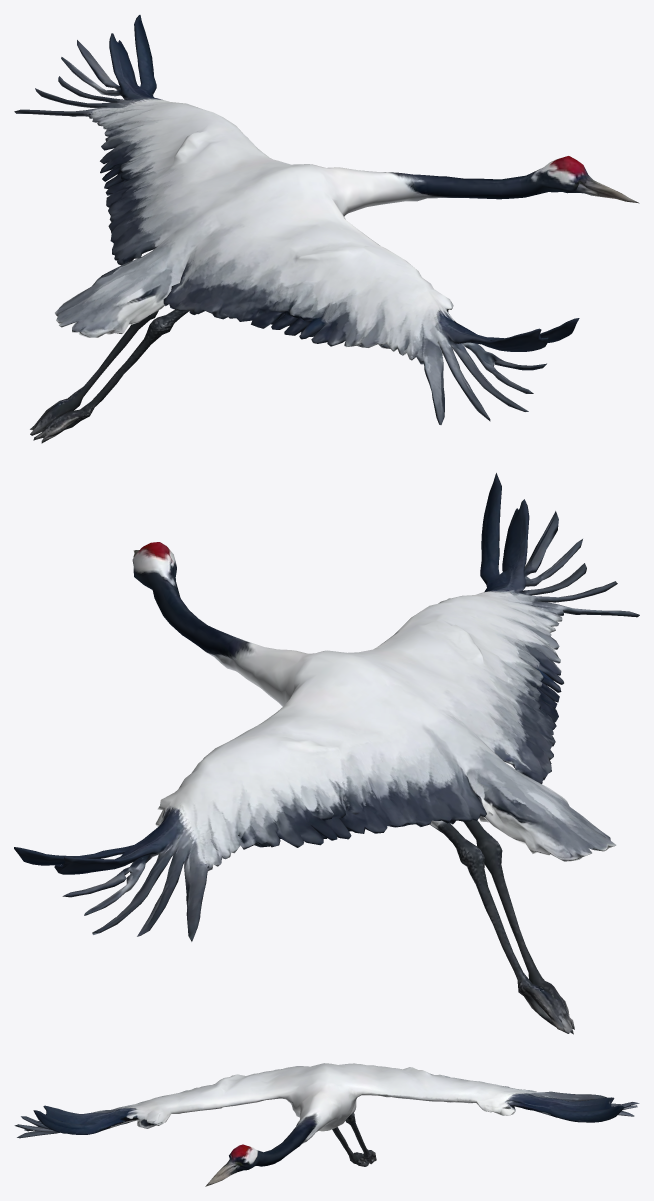
The model's file is crane.glb.
3 renders of one model, top to bottom at view 1: azimuth 30°, elevation 25°; view 2: azimuth 150°, elevation 25°; view 3: azimuth 270°, elevation 25°, orthographic. The views are drawn at different scales.
Visible parts, largest first — view 1: tripo_node_d632da0b-43c4-4fd0-9b70-d9adb77184bb; view 2: tripo_node_d632da0b-43c4-4fd0-9b70-d9adb77184bb; view 3: tripo_node_d632da0b-43c4-4fd0-9b70-d9adb77184bb.
Part boxes in pixels (<box>): tripo_node_d632da0b-43c4-4fd0-9b70-d9adb77184bb: <box>14,15,639,443</box>; tripo_node_d632da0b-43c4-4fd0-9b70-d9adb77184bb: <box>14,473,639,1034</box>; tripo_node_d632da0b-43c4-4fd0-9b70-d9adb77184bb: <box>14,1063,639,1186</box>.
Bounding box in the file's own units: 0.6367 × 0.2972 × 1.
1 material, 1 textured.
